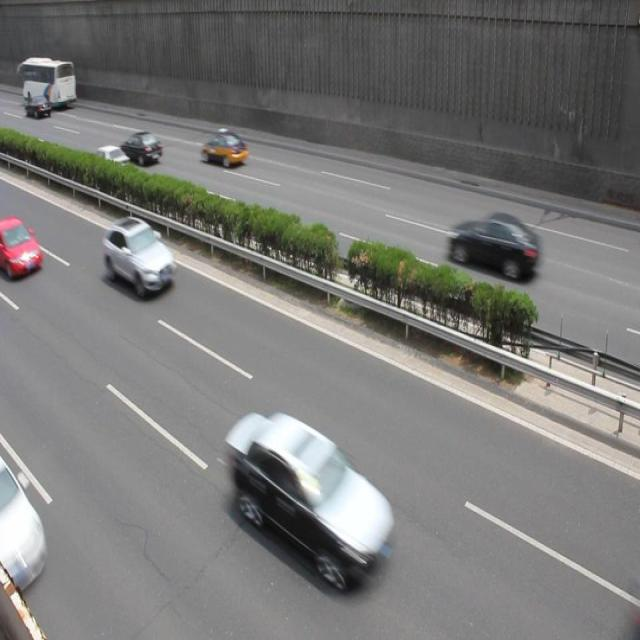car: (228, 410, 397, 586), (446, 211, 540, 281), (105, 214, 177, 300), (0, 215, 44, 276), (201, 131, 248, 166), (119, 132, 163, 167), (90, 144, 130, 175)
